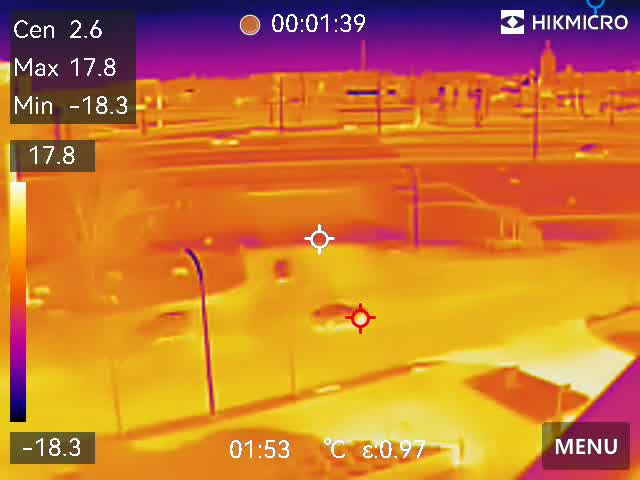heavyTruck: (338, 106, 437, 130)
largeCar: (132, 308, 199, 337)
smallCar: (306, 304, 364, 326), (272, 253, 289, 286)
vehicle: (573, 140, 609, 160), (208, 134, 244, 149)
